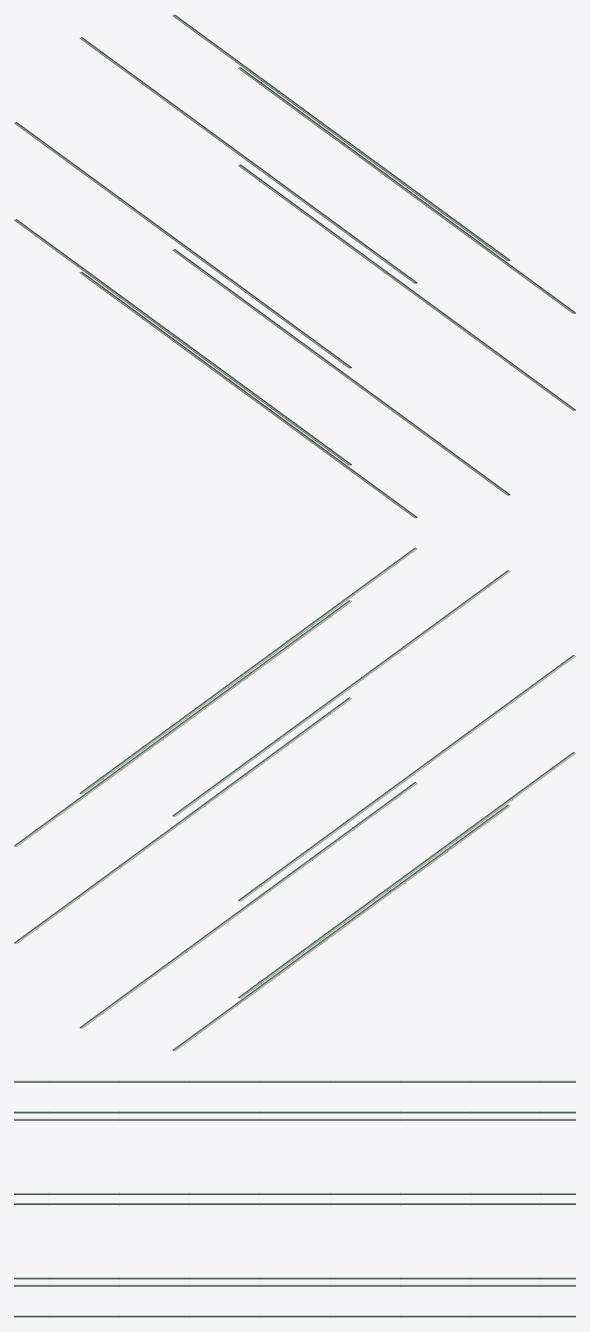
Rendered from cargo4800_harness.obj.
3 views of the same model, one above another, from view 1: azimuth 30°, elevation 25°; view 2: azimuth 150°, elevation 25°; view 3: azimuth 270°, elevation 25° (orthographic). The views are drawn at different scales.
Visible parts, largest first — view 1: cargo4800_harness; view 2: cargo4800_harness; view 3: cargo4800_harness.
Boxes of the visible parts, x1,y1,x2,y2 form: cargo4800_harness: [14, 14, 575, 518]; cargo4800_harness: [14, 547, 575, 1051]; cargo4800_harness: [14, 1080, 575, 1317].
Size of the model in its own units: 13.01 by 13.01 by 33.23.
